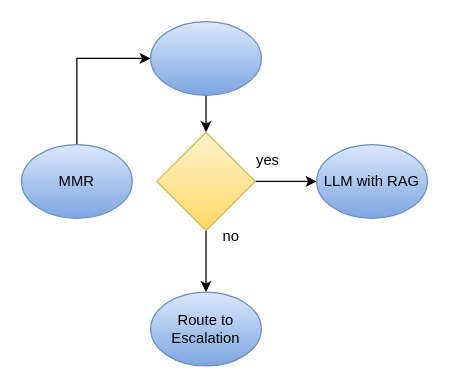
Image size: 449x387. Some labels were removed from this diagram. Each missing label, with the centre of its shape:
"LLM Text Evaluation" goes at (205,57).
"Score >= 5" goes at (205,181).
